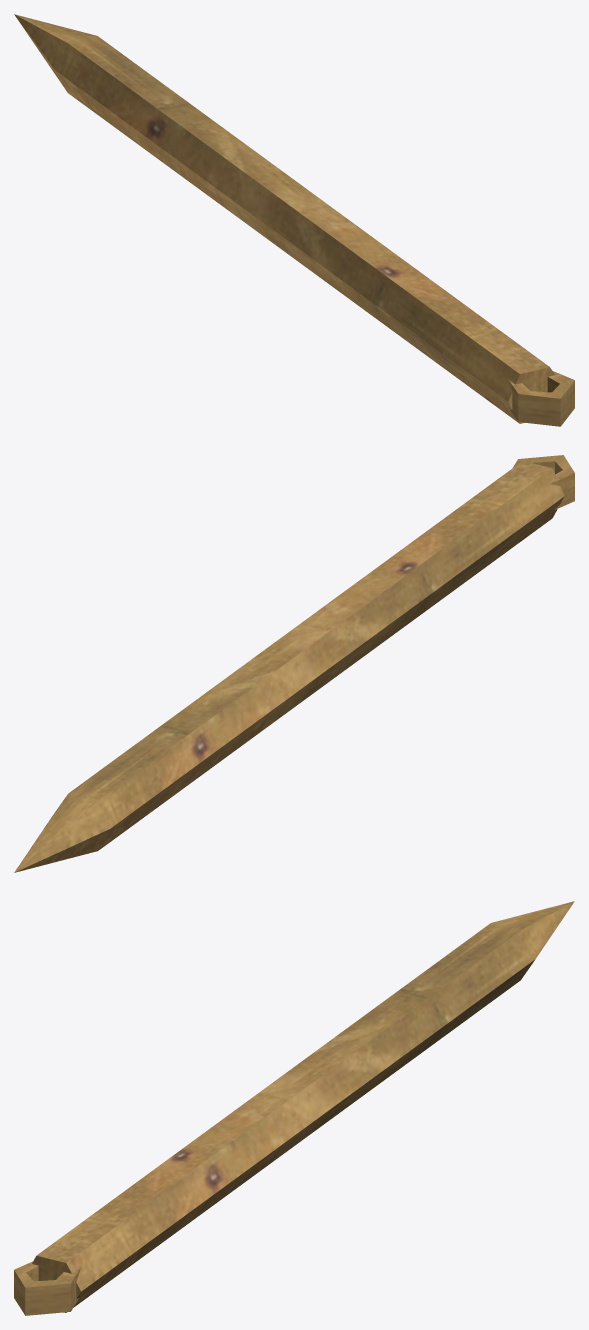
Rendered from bolt.gltf.
The picture shows the model from 3 angles, top to bottom: view 1: azimuth 30°, elevation 25°; view 2: azimuth 150°, elevation 25°; view 3: azimuth 330°, elevation 25°; orthographic projection.
Visible parts, largest first — view 1: bolt; view 2: bolt; view 3: bolt.
Part boxes in pixels (box(x1,y1,x2,y2)): bolt: box(14, 14, 574, 426); bolt: box(14, 455, 574, 872); bolt: box(14, 901, 574, 1315).
Bounding box in the file's own units: 0.019 × 0.016 × 0.318.
Materials: 1 (1 with a texture image).
